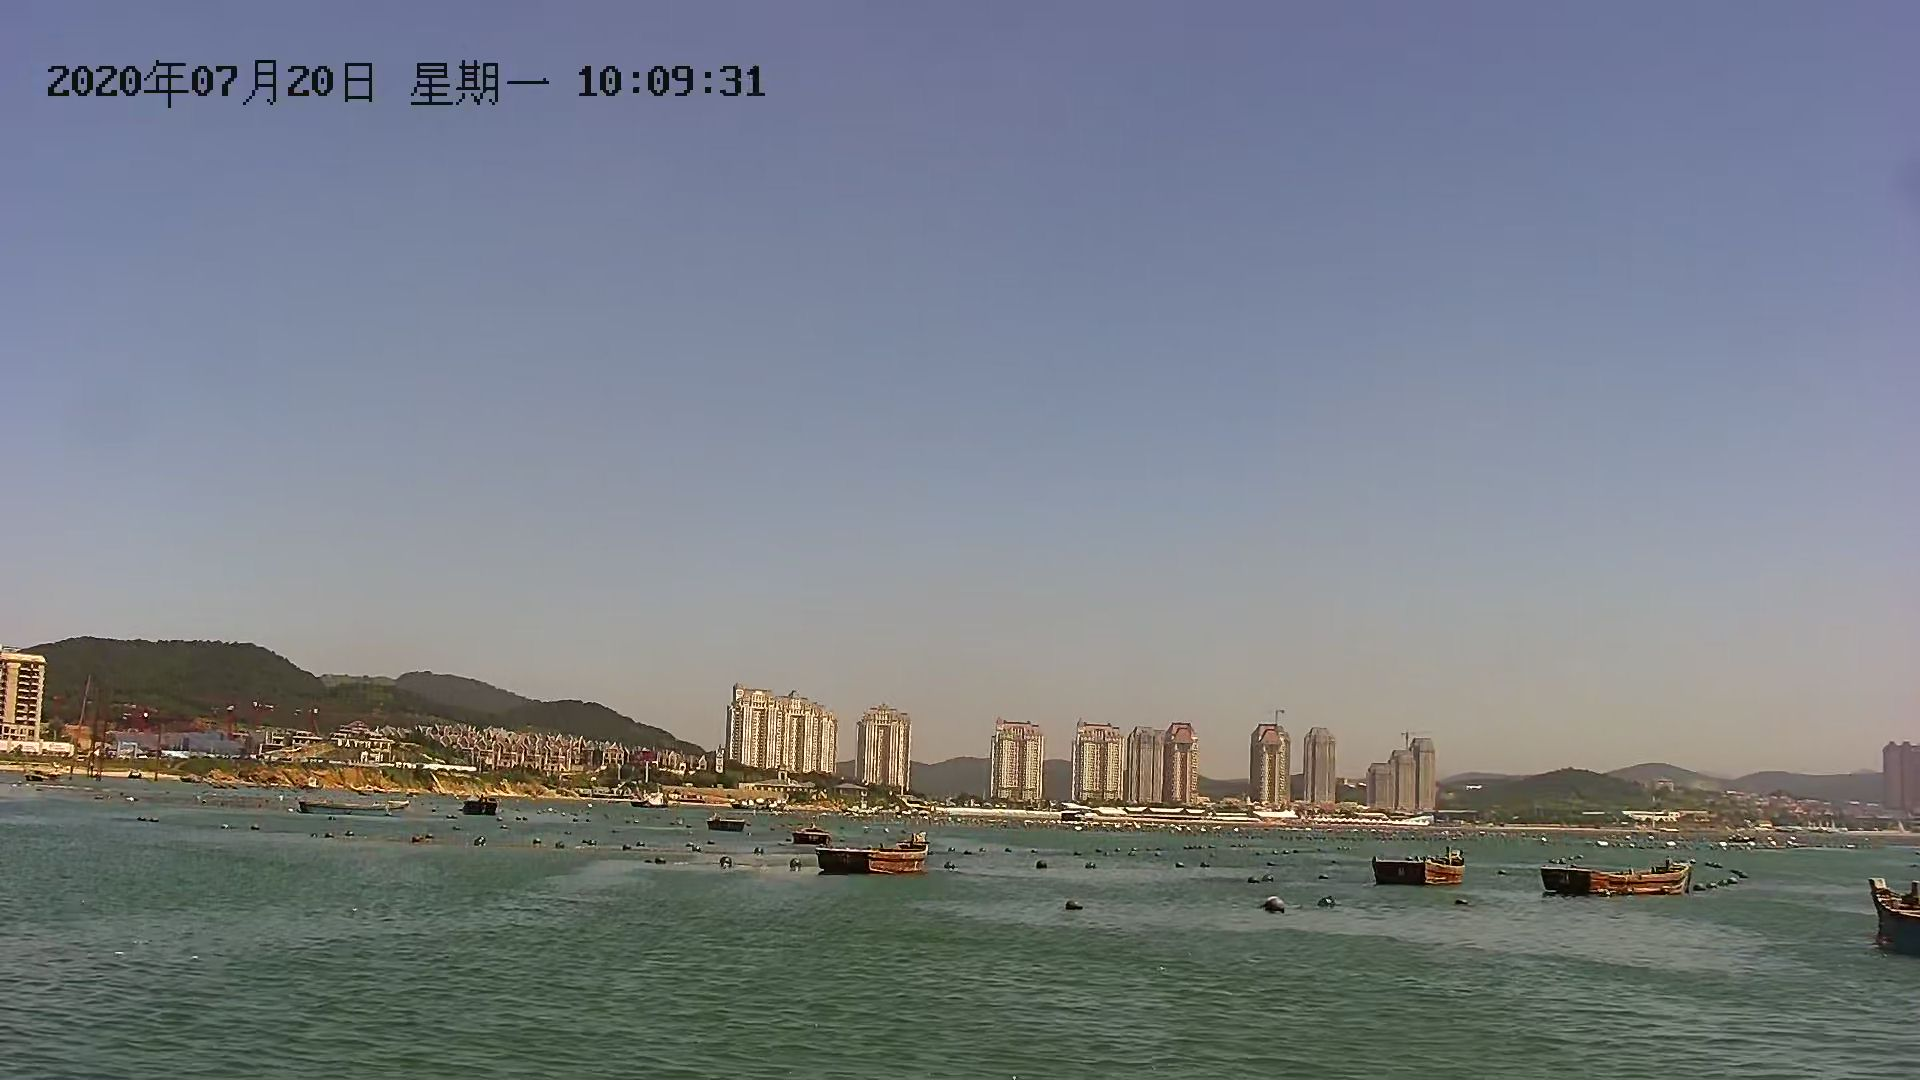ball: (1262, 891, 1291, 915), (1062, 893, 1087, 915), (1316, 893, 1344, 911)
boat: (1535, 856, 1695, 899), (816, 839, 938, 884), (1367, 851, 1469, 887)
